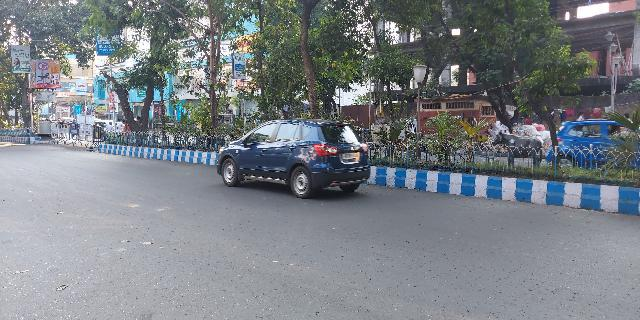Car: (210, 108, 377, 203)
